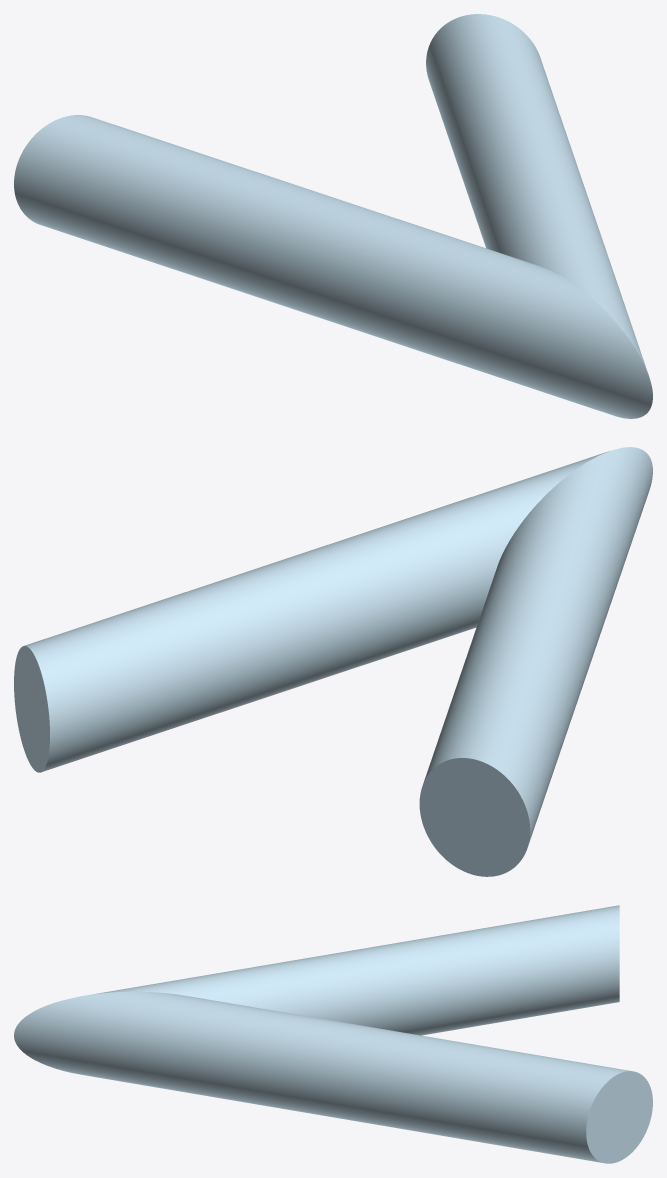
3 views of the same model, one above another, from view 1: azimuth 30°, elevation 25°; view 2: azimuth 150°, elevation 25°; view 3: azimuth 270°, elevation 25° (orthographic). The views are drawn at different scales.
Visible parts, largest first — view 1: Part 1; view 2: Part 1; view 3: Part 1.
Boxes of the visible parts, bbox=[...] form: Part 1: bbox=[14, 14, 652, 418]; Part 1: bbox=[14, 447, 652, 876]; Part 1: bbox=[14, 905, 652, 1163].
Bounding box in the file's own units: 0.0486 × 0.01 × 0.0659.
